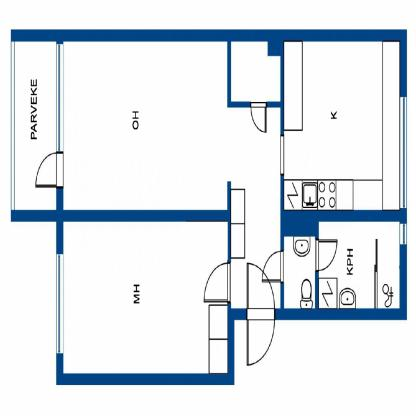door: (245, 259, 276, 369), (196, 259, 230, 307), (32, 154, 64, 189), (260, 247, 284, 288), (249, 101, 271, 137)
window: (398, 92, 407, 210), (57, 42, 64, 154), (55, 256, 63, 354), (398, 224, 406, 246)
zone: (64, 40, 282, 309), (63, 219, 228, 372), (284, 41, 400, 210), (318, 221, 402, 308), (14, 42, 57, 210), (231, 42, 281, 103), (282, 235, 315, 309)
